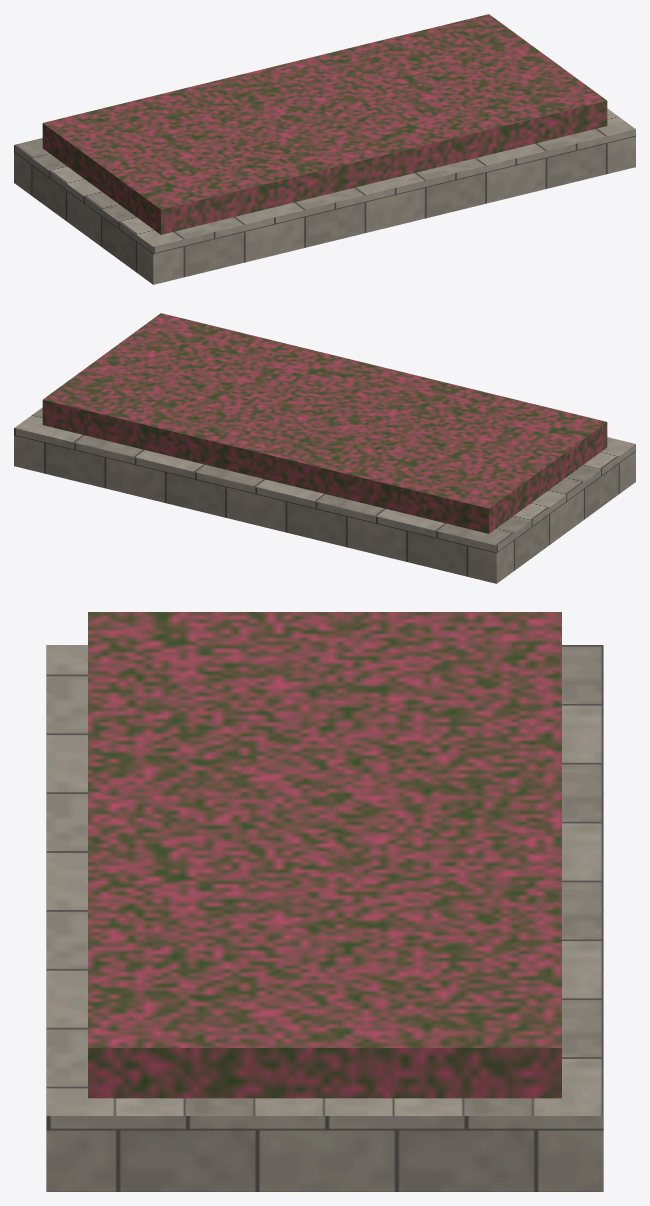
The model's file is flowerbed.obj.
The picture shows the model from 3 angles, top to bottom: view 1: azimuth 30°, elevation 25°; view 2: azimuth 150°, elevation 25°; view 3: azimuth 270°, elevation 25°; orthographic projection. The views are drawn at different scales.
Parts seen in each view (by area): view 1: flowers, stone; view 2: flowers, stone; view 3: flowers, stone.
Part boxes in pixels (x1,y1,x2,y2): flowers: (42,14,607,234); stone: (14,108,635,284); flowers: (42,313,607,533); stone: (14,407,635,583); flowers: (88,612,561,1098); stone: (46,645,603,1191).
Size of the model in its own units: 4 by 0.5 by 2.
Materials: 2 (2 with a texture image).
